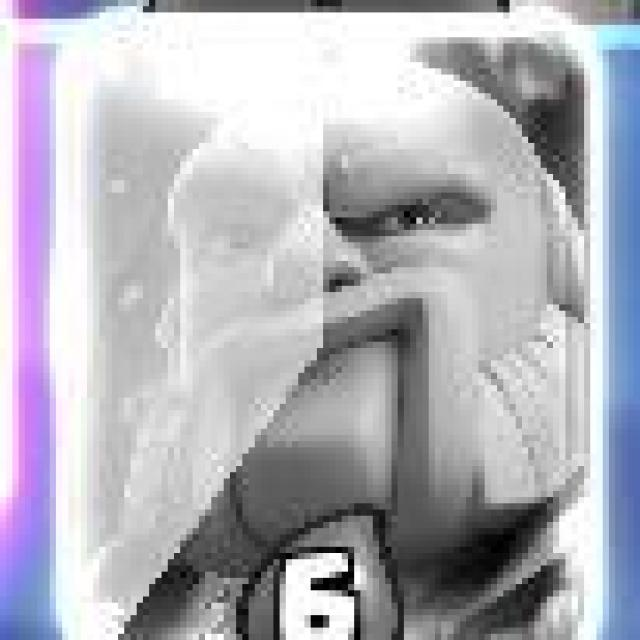Evolved_Royal_Giant: (53, 14, 598, 640)
